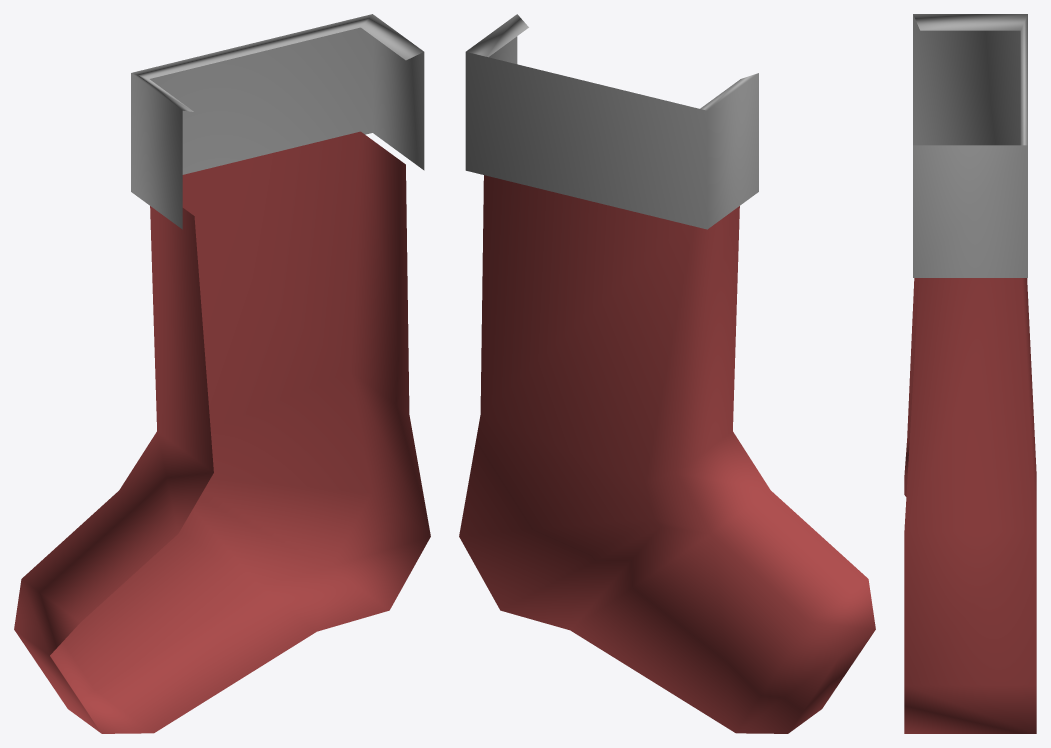
File: Stocking.fbx
3 views of the same model, side by side, from view 1: azimuth 30°, elevation 25°; view 2: azimuth 150°, elevation 25°; view 3: azimuth 270°, elevation 25° (orthographic). The views are drawn at different scales.
Visible parts, largest first — view 1: pCube5; view 2: pCube5; view 3: pCube5.
Boxes of the visible parts, x1,y1,x2,y2 form: pCube5: (14, 14, 430, 733); pCube5: (459, 14, 875, 733); pCube5: (904, 14, 1036, 733).
Bounding box in the file's own units: 0.3785 × 0.5994 × 0.1052.
